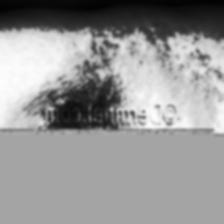Toxin: (200, 69, 224, 101), (134, 39, 150, 75)
